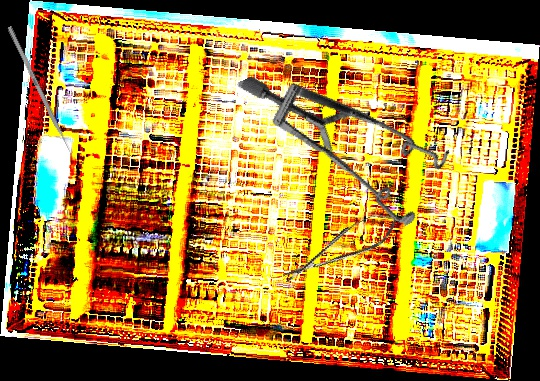Micro Scissor: (276, 207, 403, 289)
Pusher: (6, 25, 78, 164)
Speculum: (235, 12, 471, 266)
